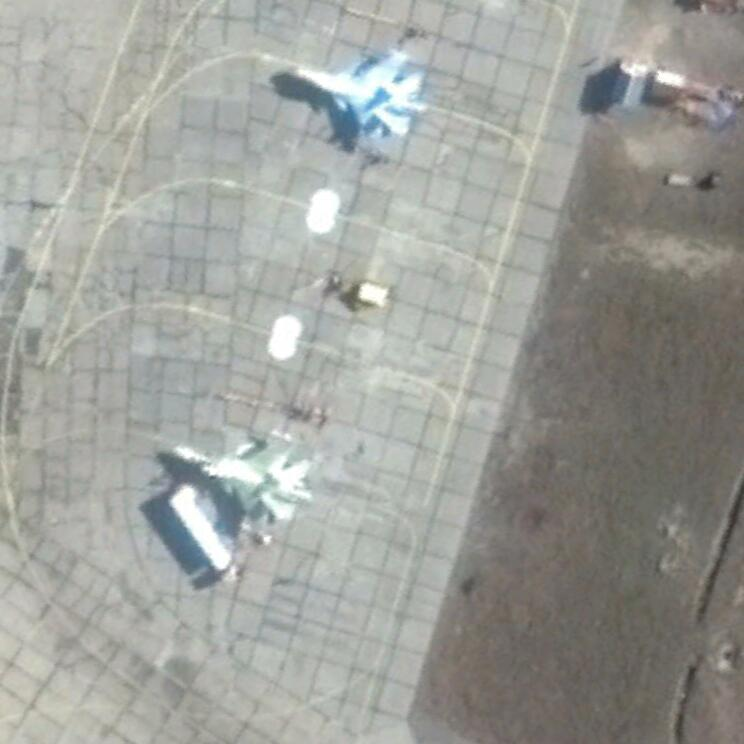A19: (170, 431, 318, 542), (288, 46, 429, 149)
